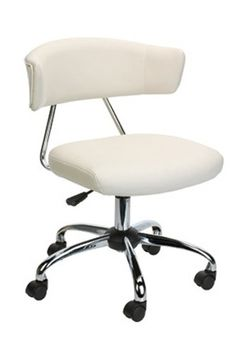chairs: (20, 36, 230, 328)
